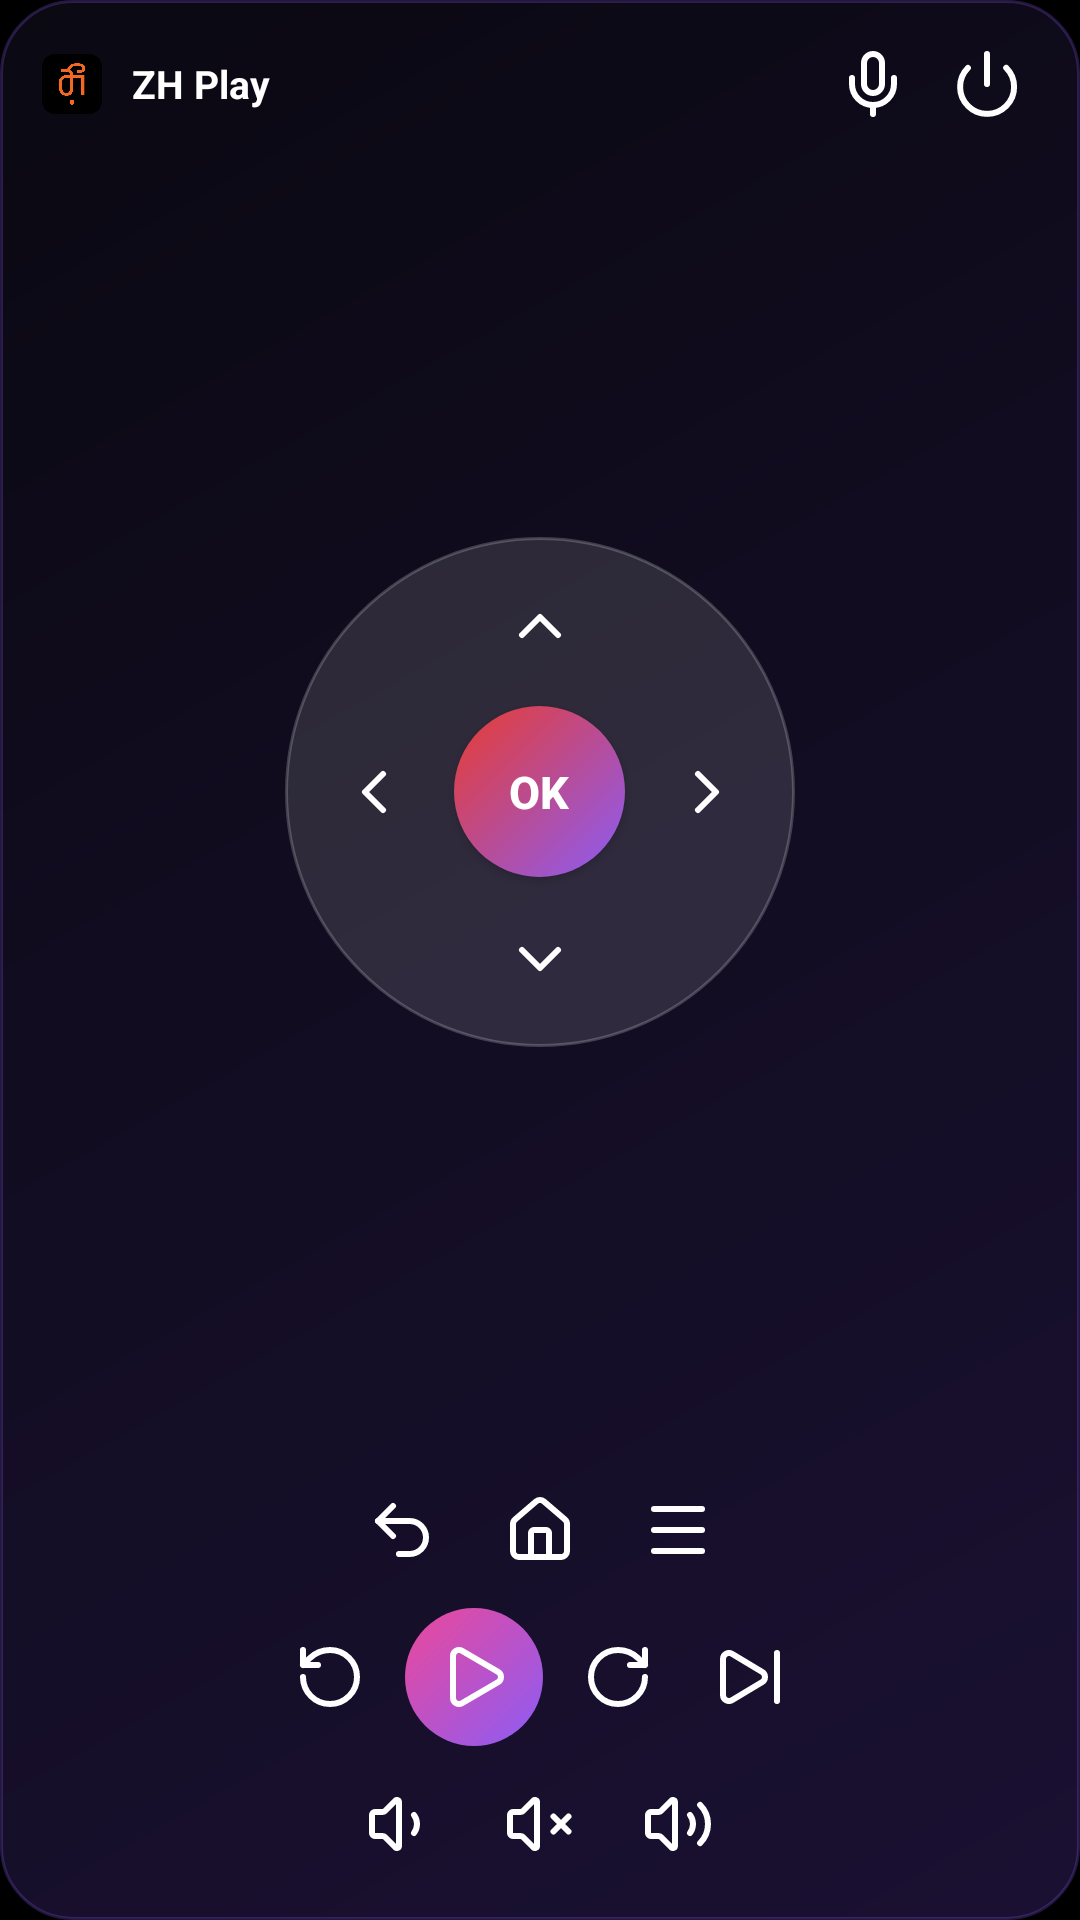

Point at icon controls on the screen. Image size 1080 x 1920, points as [x,y].
Back: [402,1530]
Back 10 seconds: [330,1677]
Down: [540,959]
Forward 10 seconds: [618,1677]
Home: [540,1528]
Left: [374,792]
Menu: [678,1530]
Mute: [539,1824]
Next: [750,1677]
Play / pause: [474,1677]
Power: [987,84]
Right: [707,792]
Up: [540,626]
Voice: [873,84]
Volume down: [394,1824]
Volume up: [678,1824]
